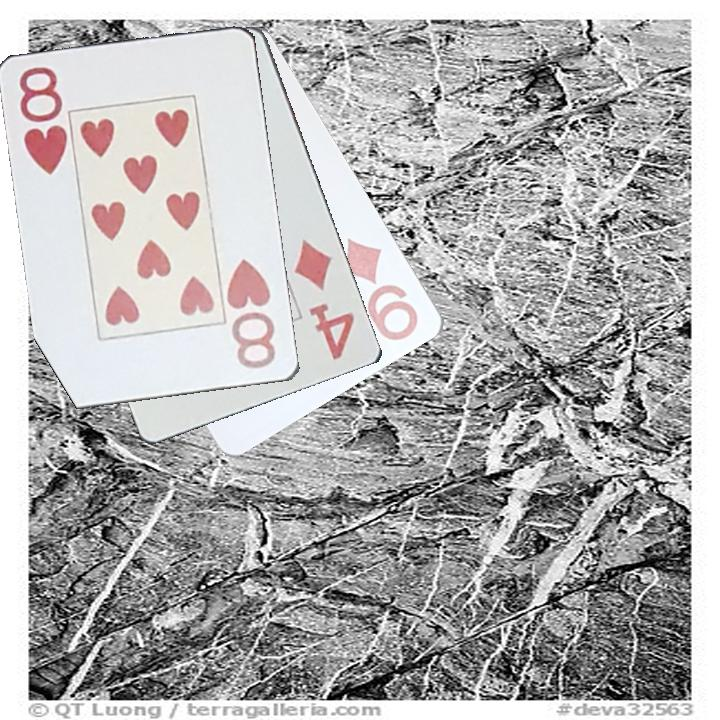4d: (290, 236, 358, 364)
8h: (16, 63, 71, 179), (225, 256, 279, 372)
9d: (340, 235, 422, 344)
